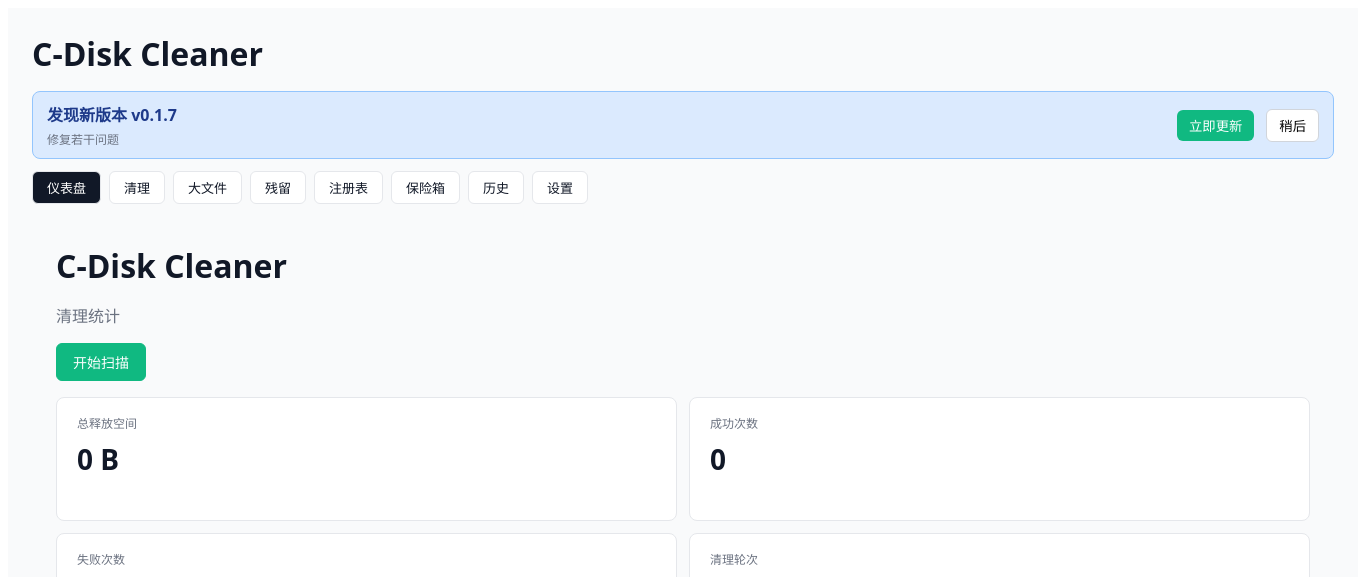
App 更新 banner › 点「稍后」→ banner 消失且版本号写入 localStorage
This screenshot has width=1366, height=577.
Click the button "稍后": (1293, 125) [1266, 108, 1319, 142]
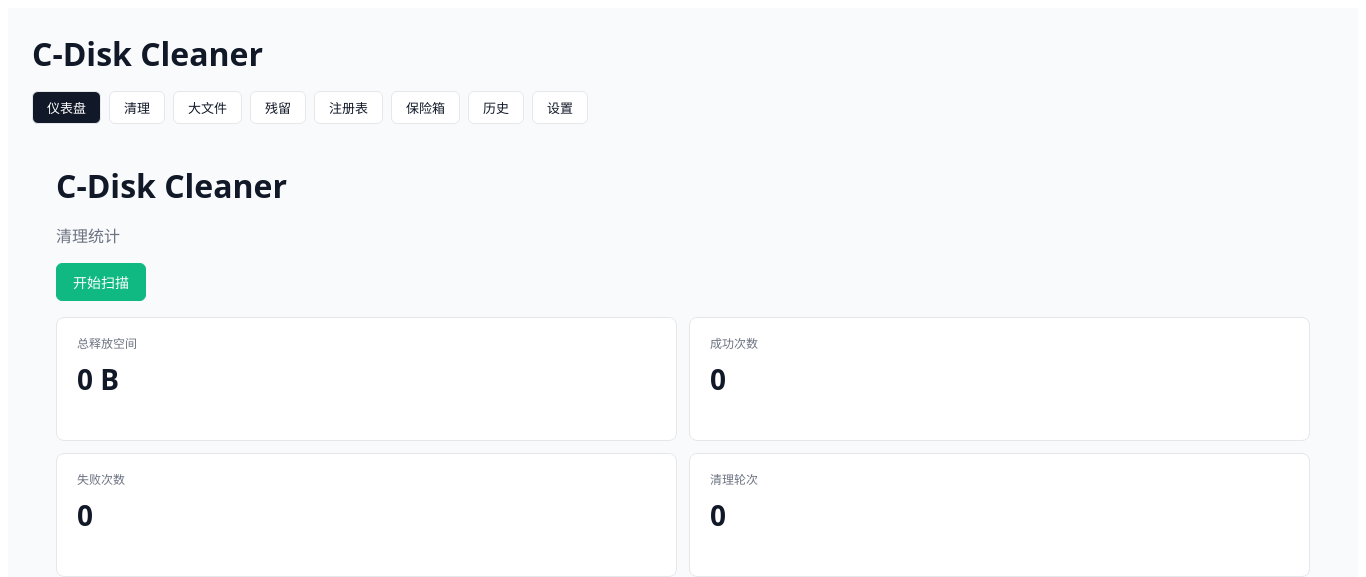
Check: the text "发现新版本 v0.1.7" is gone
